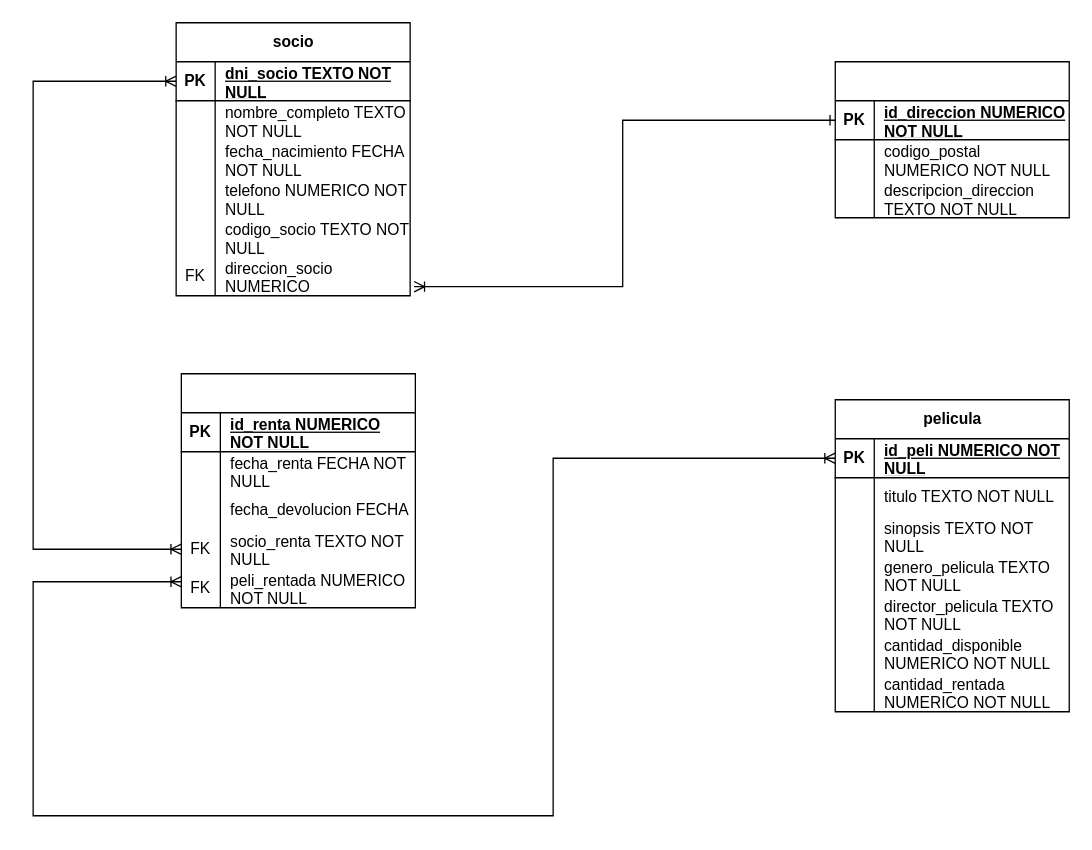
Some shapes in this 1092 by 850 pixel diagram are drawn without their labels. The shapes that lost their labels are listed below. From the top down, each one's box as (x1, y1, x2, y2) in pixels, then its label:
(834, 60, 1069, 218): direccion_socio
(180, 372, 415, 608): renta_pelicula
